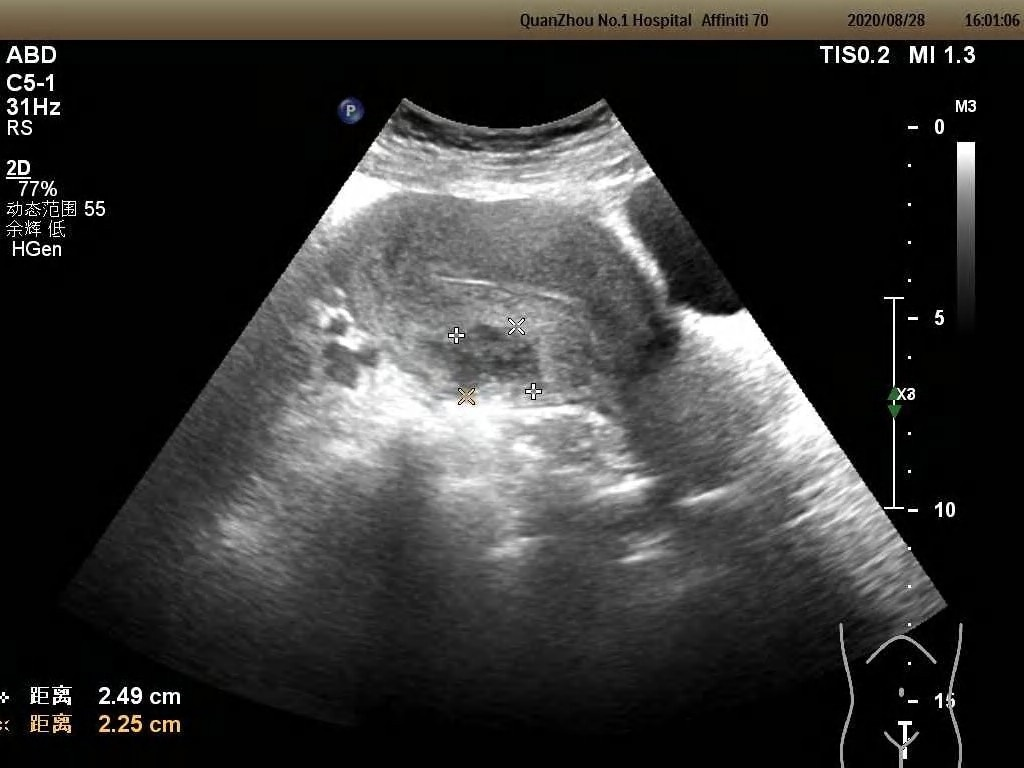肌瘤: (458, 326, 538, 390)
